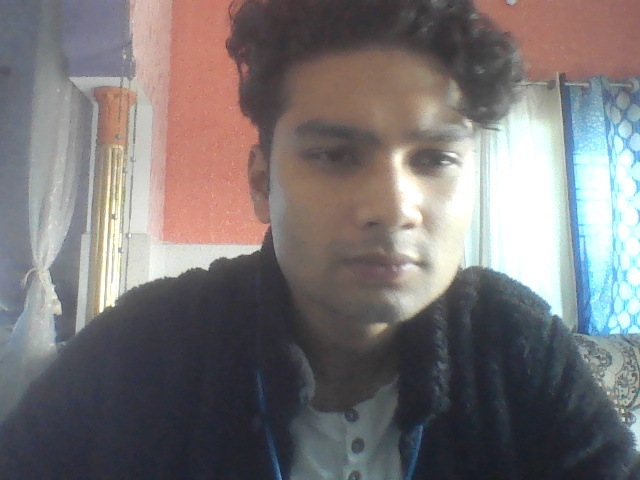real: (224, 0, 513, 409)
